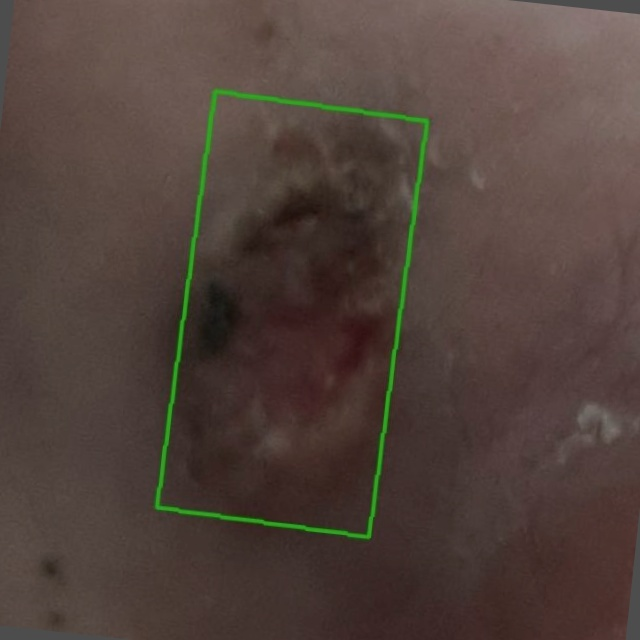Eczema: (157, 91, 427, 537)
